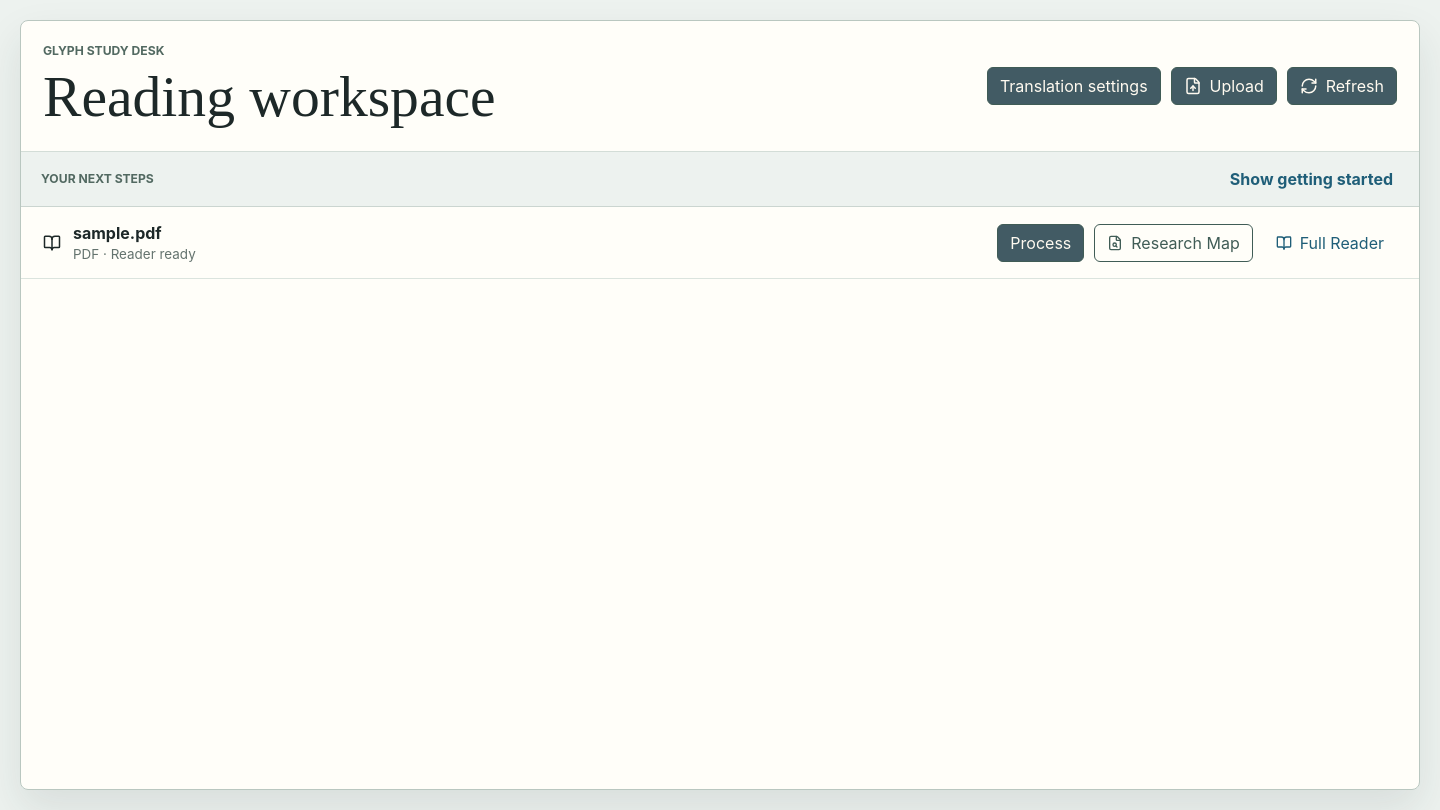
Test: App › offers generation when a completed Reader has no active Research Map
Click the button with aria-label "Open Research Map for sample.pdf".
click(1174, 242)  # box [1094,224,1253,262]
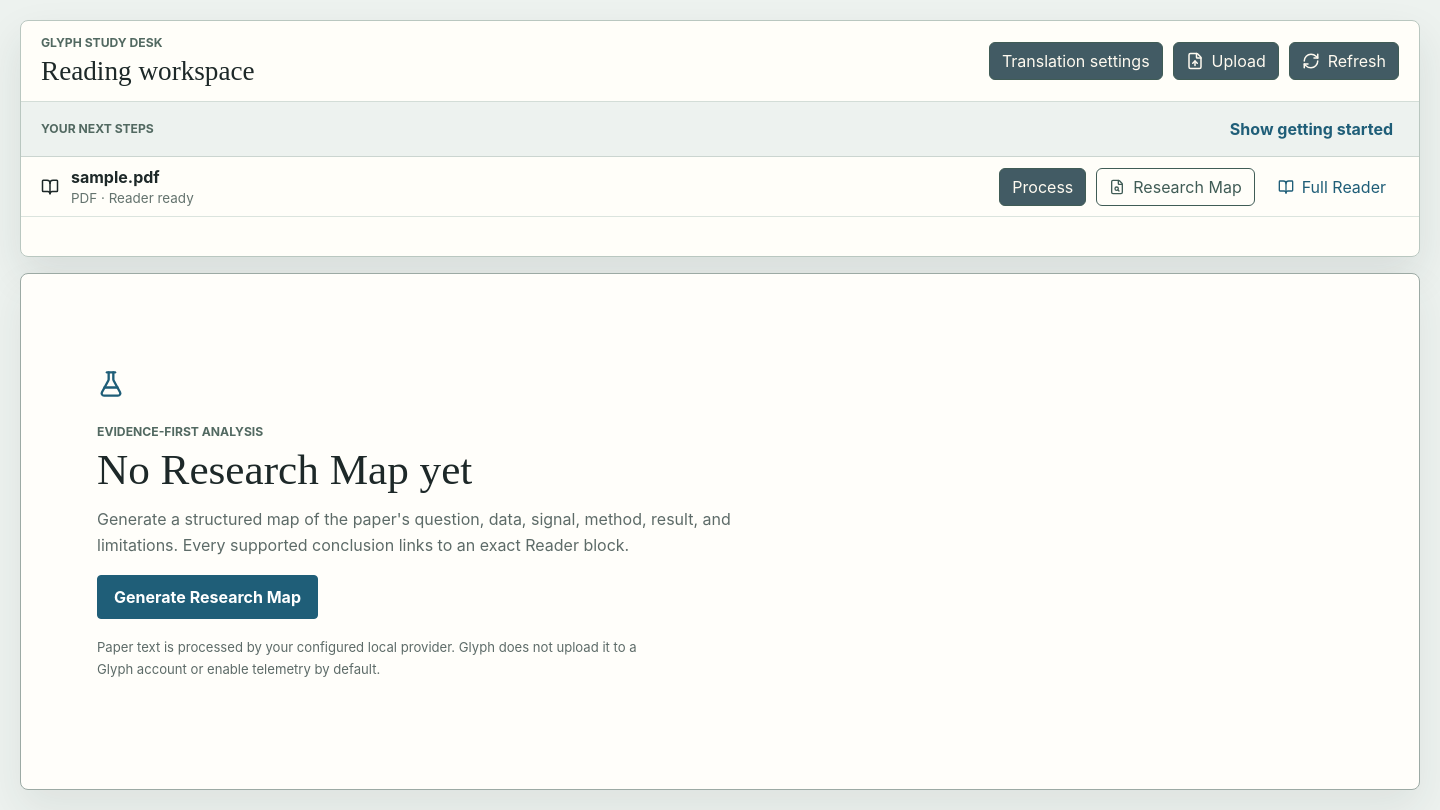
Expected: the button "Generate Research Map" is shown, [97,575,318,619]
Expected: the text "configured local provider" is shown, [97,639,637,677]
